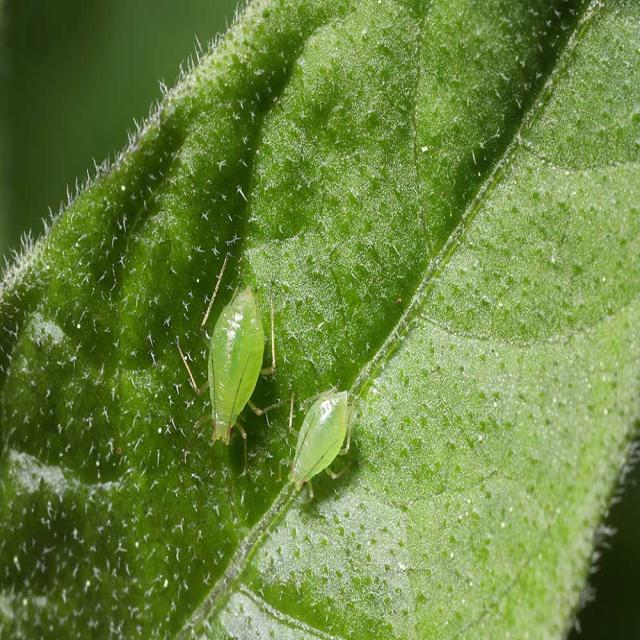Aphids: (170, 230, 371, 524)
